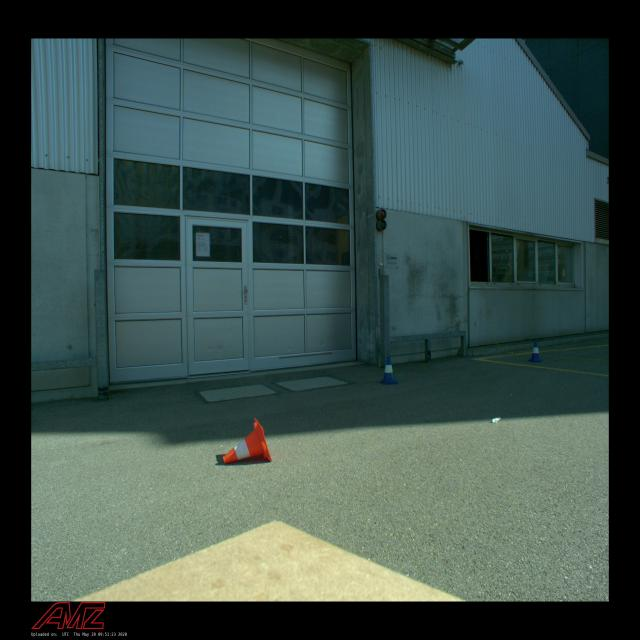blue_cone: (380, 356, 397, 385), (529, 342, 542, 362)
orange_cone: (223, 418, 272, 463)
